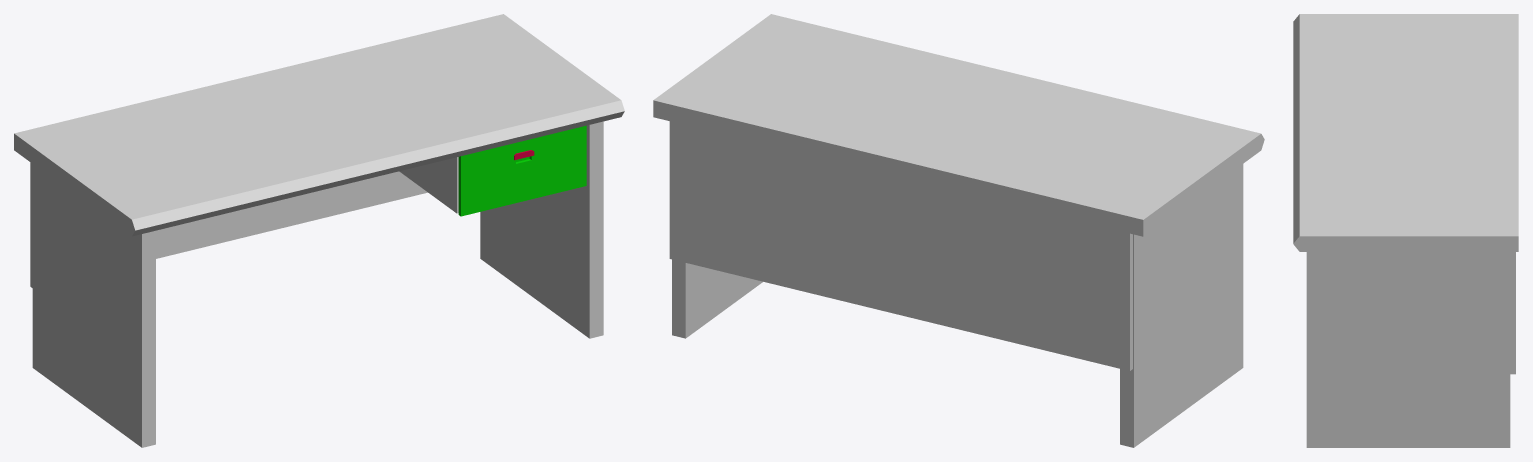
Rendered from Desk_Final.fbx.
3 renders of one model, left to right at view 1: azimuth 30°, elevation 25°; view 2: azimuth 150°, elevation 25°; view 3: azimuth 270°, elevation 25°, orthographic. The views are drawn at different scales.
Visible parts, largest first — view 1: Legs, Legs.002; view 2: Legs; view 3: Legs.
Boxes of the visible parts, x1,y1,x2,y2 form: Legs: (14,14,624,447); Legs.002: (458,125,586,216); Legs: (653,14,1264,447); Legs: (1293,14,1518,447).
Bounding box in the file's own units: 180 × 82.33 × 77.15.
